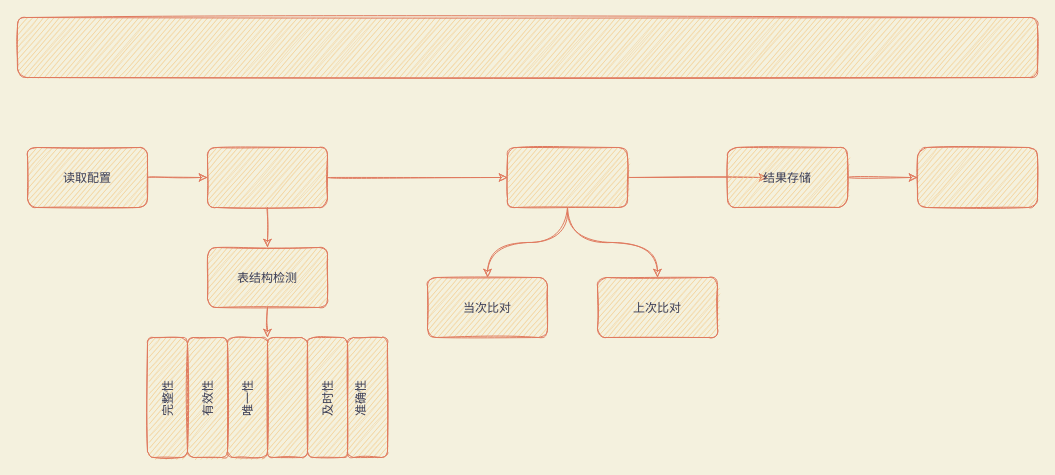
Image size: 1055x475. Some labels were removed from this diagram. Each missing label, with the centre of its shape:
"Demeter" belongs at pixel 527 47.
"一致性" belongs at pixel 287 397.
"执行用例" belongs at pixel 567 177.
"报告输出" belongs at pixel 977 177.
"用例转化" belongs at pixel 267 177.
